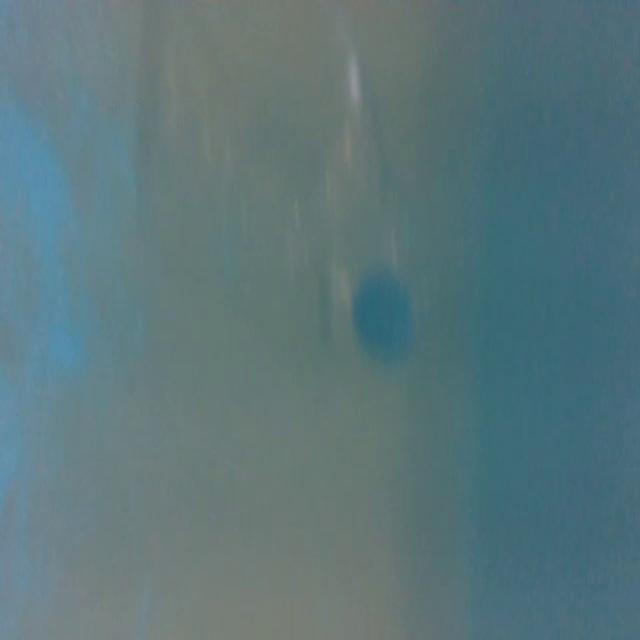plastic bottle: (281, 10, 424, 376)
